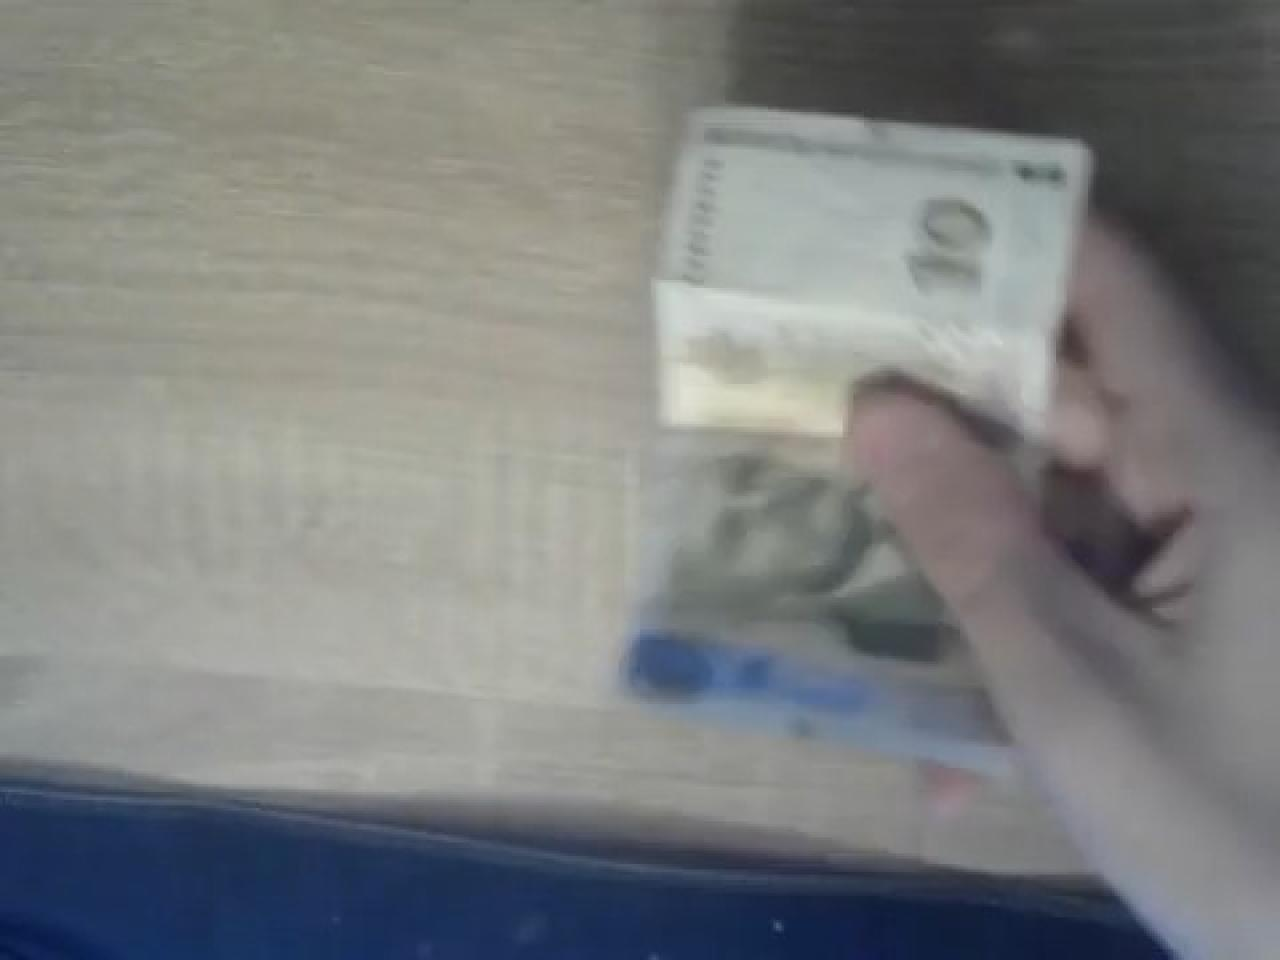10leva: (629, 424, 1008, 768)
